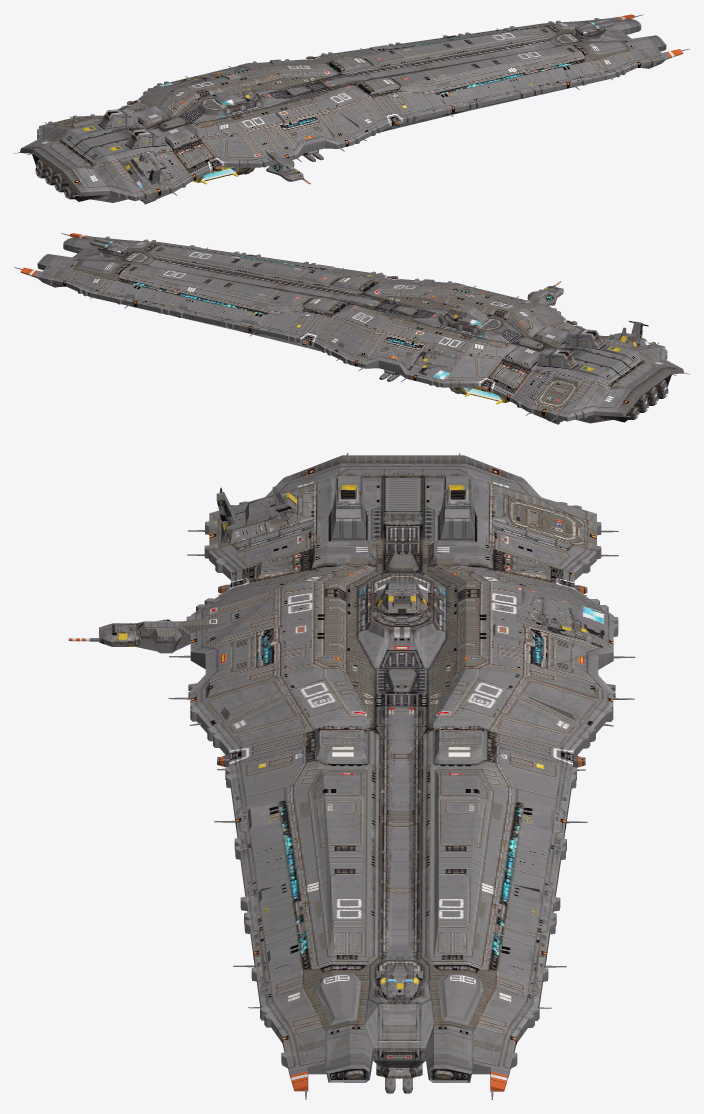
Rendered from battlecruiser.FBX.
3 views of the same model, one above another, from view 1: azimuth 30°, elevation 25°; view 2: azimuth 150°, elevation 25°; view 3: azimuth 270°, elevation 25° (orthographic). The views are drawn at different scales.
Visible parts, largest first — view 1: S_hgn_battlecruiser-Hgn_BattleCruiser_Main_EXPORT, S_hgn_battlecruiser-Hgn_C_Module_FireControl_EXPORT, S_ion_turret_1, S_gun_turret_3, S_hgn_battlecruiser-Hgn_BattleCruiser_Thruster_EXPORT, S_hgn_battlecruiser-Hgn_BattleCruiser_Badge_EXPORT, S_hgn_battlecruiser-Hgn_BattleCruiser_Engine_EXPORT; view 2: S_hgn_battlecruiser-Hgn_BattleCruiser_Main_EXPORT, S_hgn_battlecruiser-Hgn_BattleCruiser_Badge_EXPORT, S_ion_turret_1, S_hgn_battlecruiser-Hgn_C_Module_FireControl_EXPORT, S_gun_turret_3, S_hgn_battlecruiser-Hgn_BattleCruiser_Thruster_EXPORT; view 3: S_hgn_battlecruiser-Hgn_BattleCruiser_Main_EXPORT, S_hgn_battlecruiser-Hgn_BattleCruiser_Badge_EXPORT, S_hgn_battlecruiser-Hgn_C_Module_FireControl_EXPORT, S_hgn_battlecruiser-Hgn_BattleCruiser_Engine_EXPORT, S_ion_turret_1, S_gun_turret_3.
Part boxes in pixels (x1,y1,x2,y2): S_hgn_battlecruiser-Hgn_BattleCruiser_Main_EXPORT: (14,14,689,204); S_hgn_battlecruiser-Hgn_C_Module_FireControl_EXPORT: (124,154,167,189); S_ion_turret_1: (215,84,256,105); S_gun_turret_3: (575,19,614,37); S_hgn_battlecruiser-Hgn_BattleCruiser_Thruster_EXPORT: (35,159,70,198); S_hgn_battlecruiser-Hgn_BattleCruiser_Badge_EXPORT: (157,76,216,88); S_hgn_battlecruiser-Hgn_BattleCruiser_Engine_EXPORT: (266,162,303,181); S_hgn_battlecruiser-Hgn_BattleCruiser_Main_EXPORT: (14,233,689,424); S_hgn_battlecruiser-Hgn_BattleCruiser_Badge_EXPORT: (407,341,466,379); S_ion_turret_1: (447,304,488,325); S_hgn_battlecruiser-Hgn_C_Module_FireControl_EXPORT: (608,321,649,346); S_gun_turret_3: (89,238,129,255); S_hgn_battlecruiser-Hgn_BattleCruiser_Thruster_EXPORT: (632,380,668,419); S_hgn_battlecruiser-Hgn_BattleCruiser_Main_EXPORT: (68,453,635,1099); S_hgn_battlecruiser-Hgn_BattleCruiser_Badge_EXPORT: (517,585,604,649); S_hgn_battlecruiser-Hgn_C_Module_FireControl_EXPORT: (216,486,297,543); S_hgn_battlecruiser-Hgn_BattleCruiser_Engine_EXPORT: (99,621,190,653); S_ion_turret_1: (376,581,427,616); S_gun_turret_3: (376,965,422,1001).
Size of the model in its own units: 2118 by 268 by 832.
Materials: 10 (8 with a texture image).
